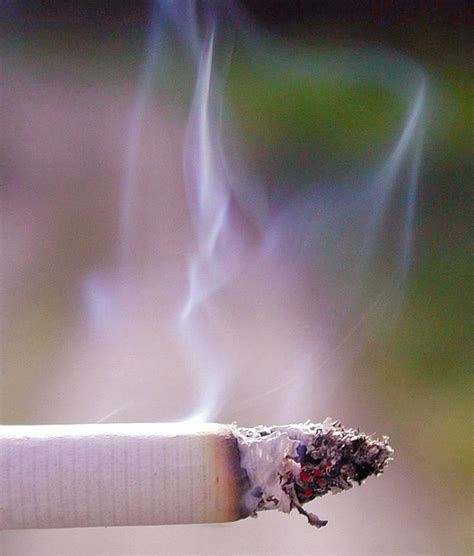cigarette: (0, 421, 398, 530)
